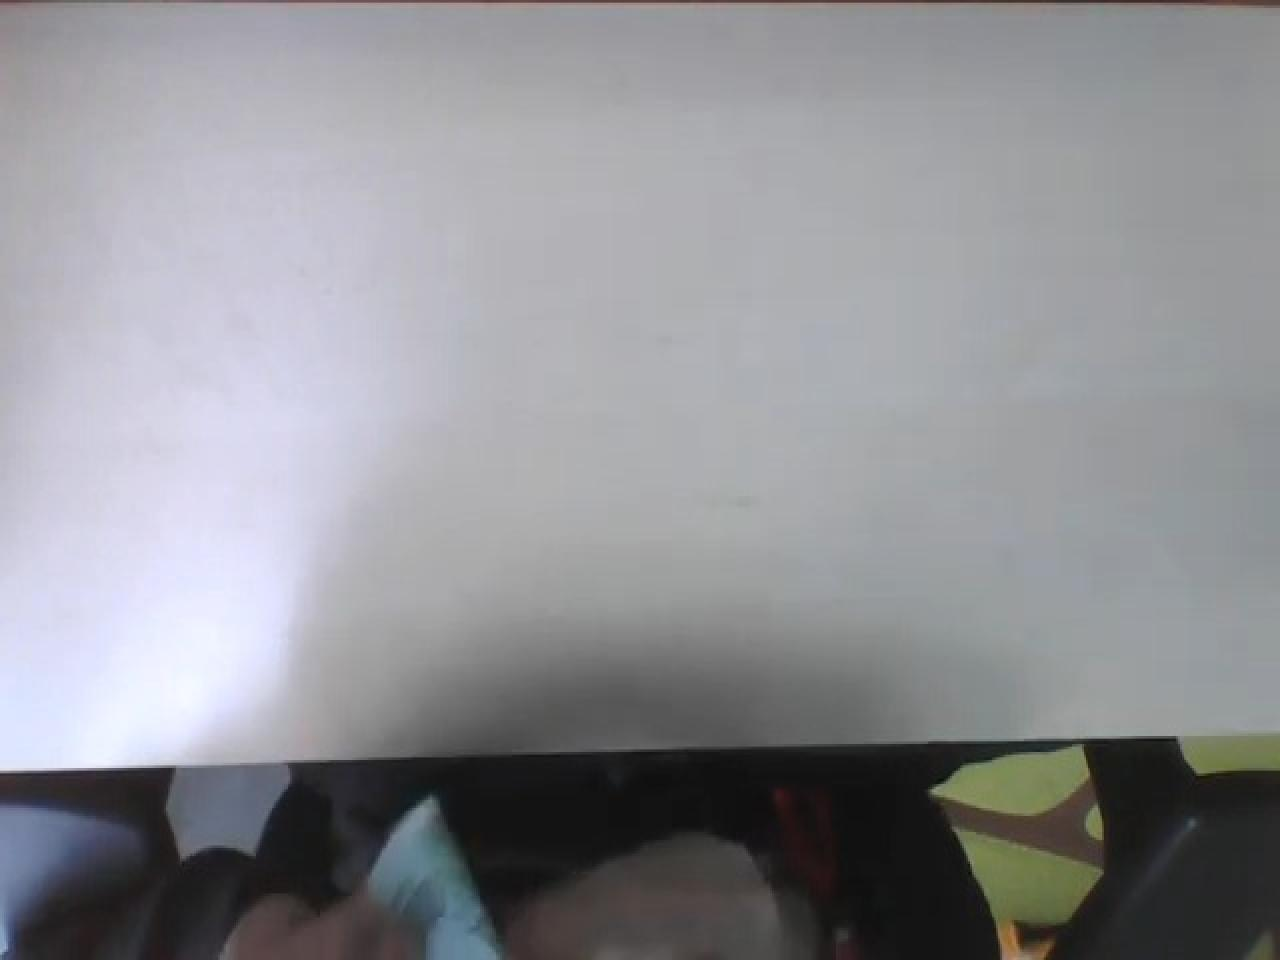100leva: (2, 8, 1276, 957), (4, 741, 1274, 960)
